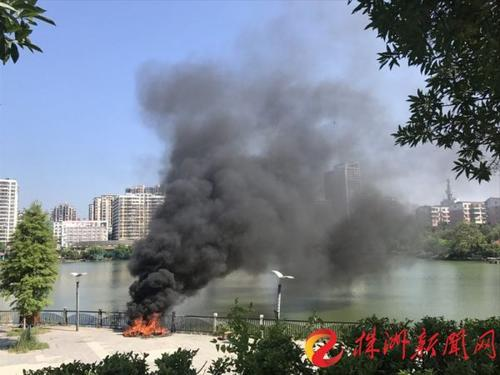smoke: (127, 44, 361, 311)
